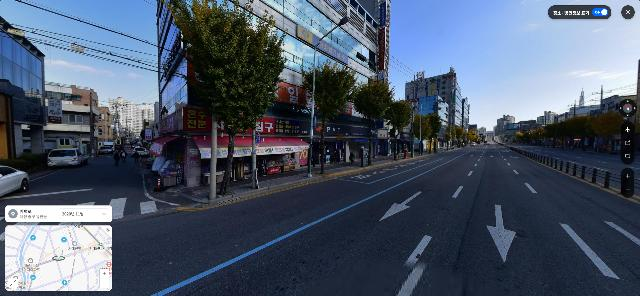other: (167, 0, 287, 195), (300, 63, 358, 174), (351, 79, 396, 165), (386, 98, 413, 159), (590, 111, 625, 152), (413, 113, 432, 155), (427, 113, 442, 152)
